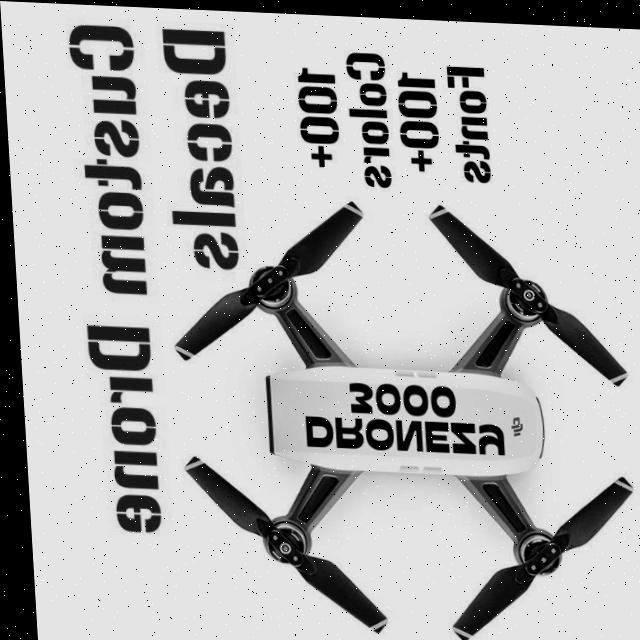drone: (147, 177, 640, 640)
